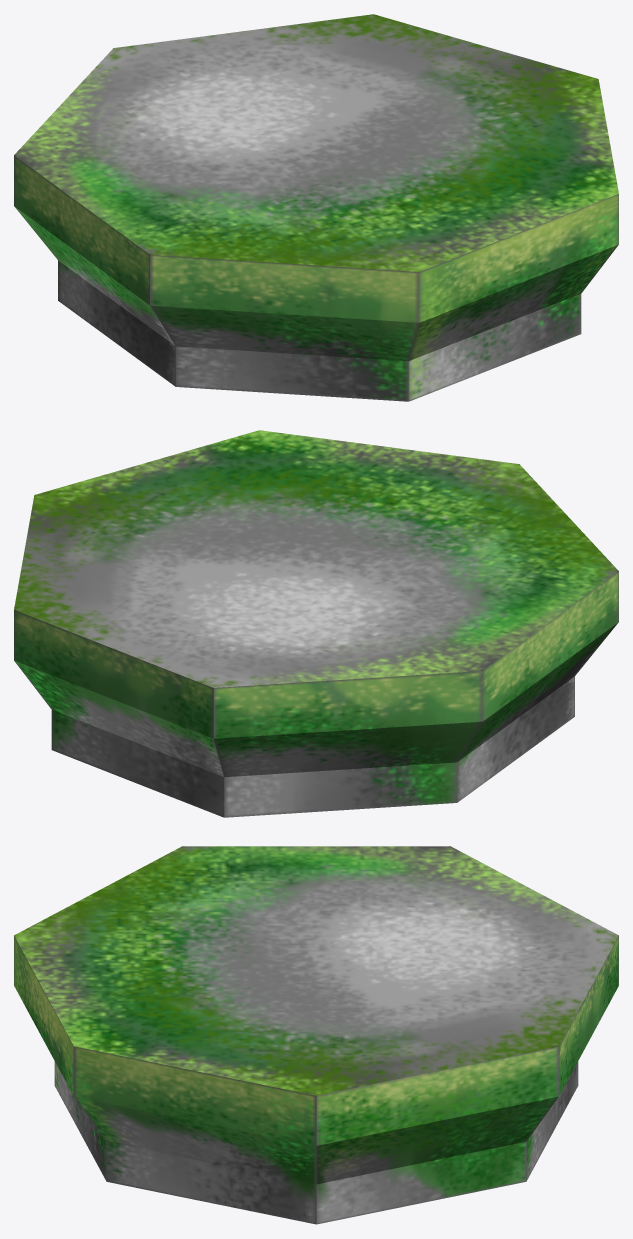
Rendered from pillarPlat.fbx.
3 views of the same model, one above another, from view 1: azimuth 30°, elevation 25°; view 2: azimuth 150°, elevation 25°; view 3: azimuth 270°, elevation 25° (orthographic).
Visible parts, largest first — view 1: pCylinder5; view 2: pCylinder5; view 3: pCylinder5.
Boxes of the visible parts, left/top/right/bottom form: pCylinder5: left=14, top=14, right=618, bottom=401; pCylinder5: left=14, top=430, right=618, bottom=817; pCylinder5: left=14, top=846, right=618, bottom=1224.
Bounding box in the file's own units: 4.62 × 1.3 × 4.74.
